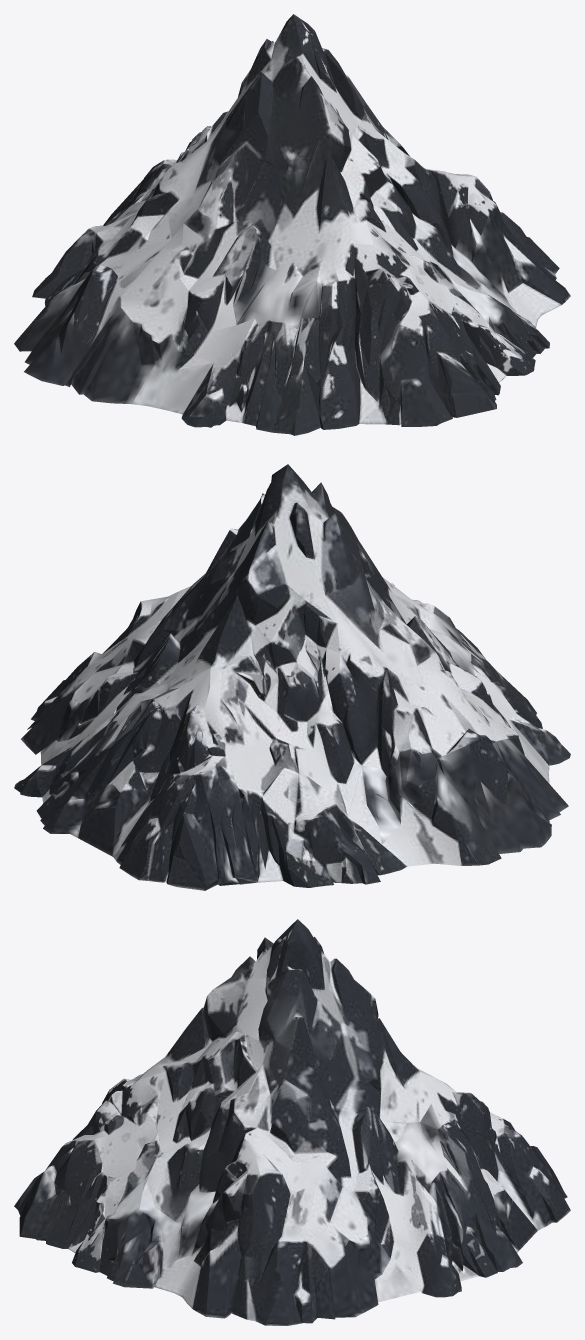
Rendered from kelvin.glb.
3 renders of one model, top to bottom at view 1: azimuth 30°, elevation 25°; view 2: azimuth 150°, elevation 25°; view 3: azimuth 270°, elevation 25°, orthographic. The views are drawn at different scales.
Bounding box in the file's own units: 1.9 × 1.08 × 1.88.
Materials: 1 (1 with a texture image).
